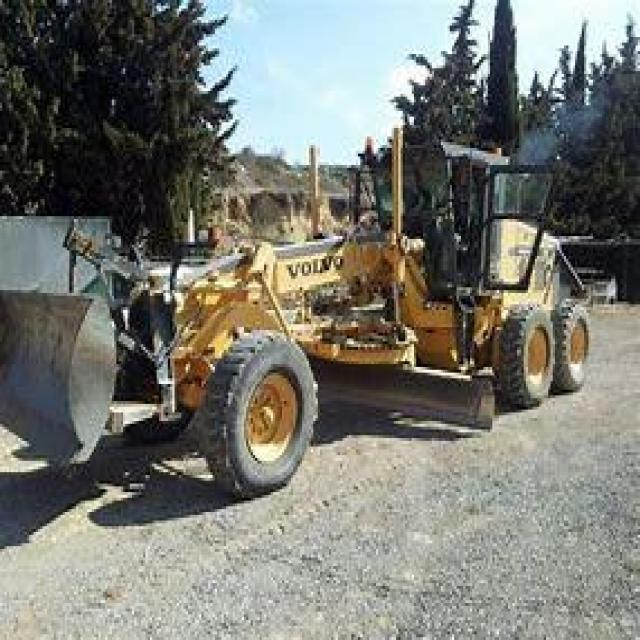Grader: (152, 117, 616, 492)
